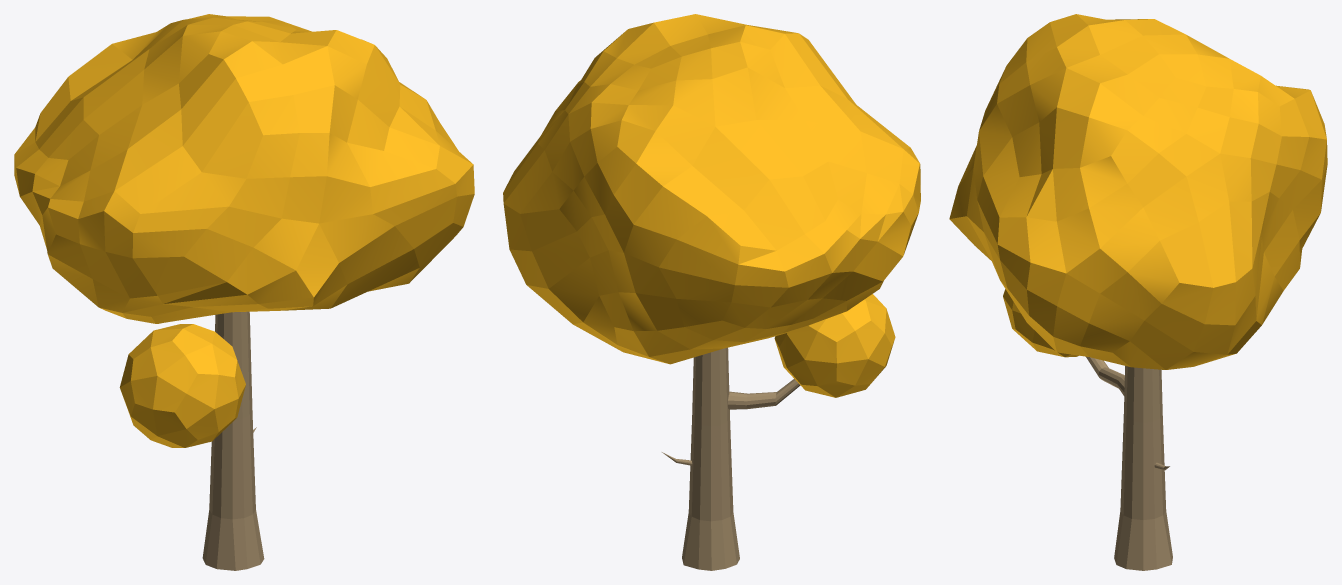
Rendered from more more tree2.fbx.
3 views of the same model, side by side, from view 1: azimuth 30°, elevation 25°; view 2: azimuth 150°, elevation 25°; view 3: azimuth 270°, elevation 25° (orthographic). The views are drawn at different scales.
Parts seen in each view (by area): view 1: tree_008_autumn; view 2: tree_008_autumn; view 3: tree_008_autumn.
Boxes of the visible parts, x1,y1,x2,y2 form: tree_008_autumn: [14, 14, 474, 570]; tree_008_autumn: [503, 14, 920, 570]; tree_008_autumn: [949, 14, 1327, 570].
Bounding box in the file's own units: 4.51 × 6.05 × 3.92.
